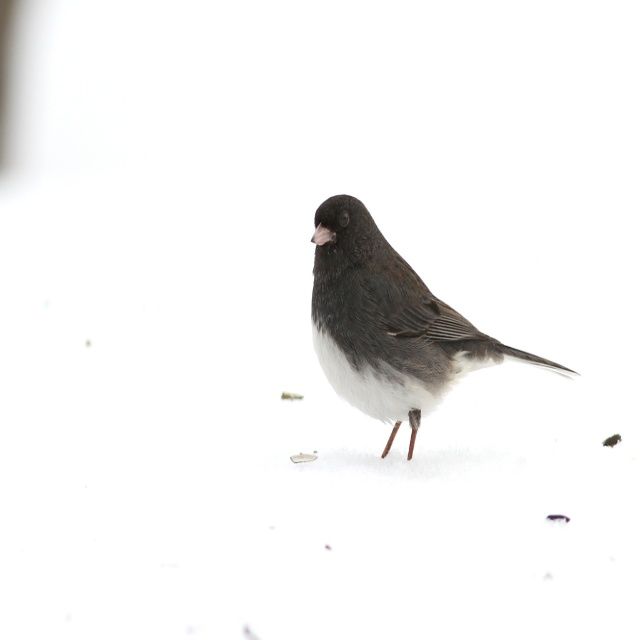Sparrow: (306, 195, 574, 457)
